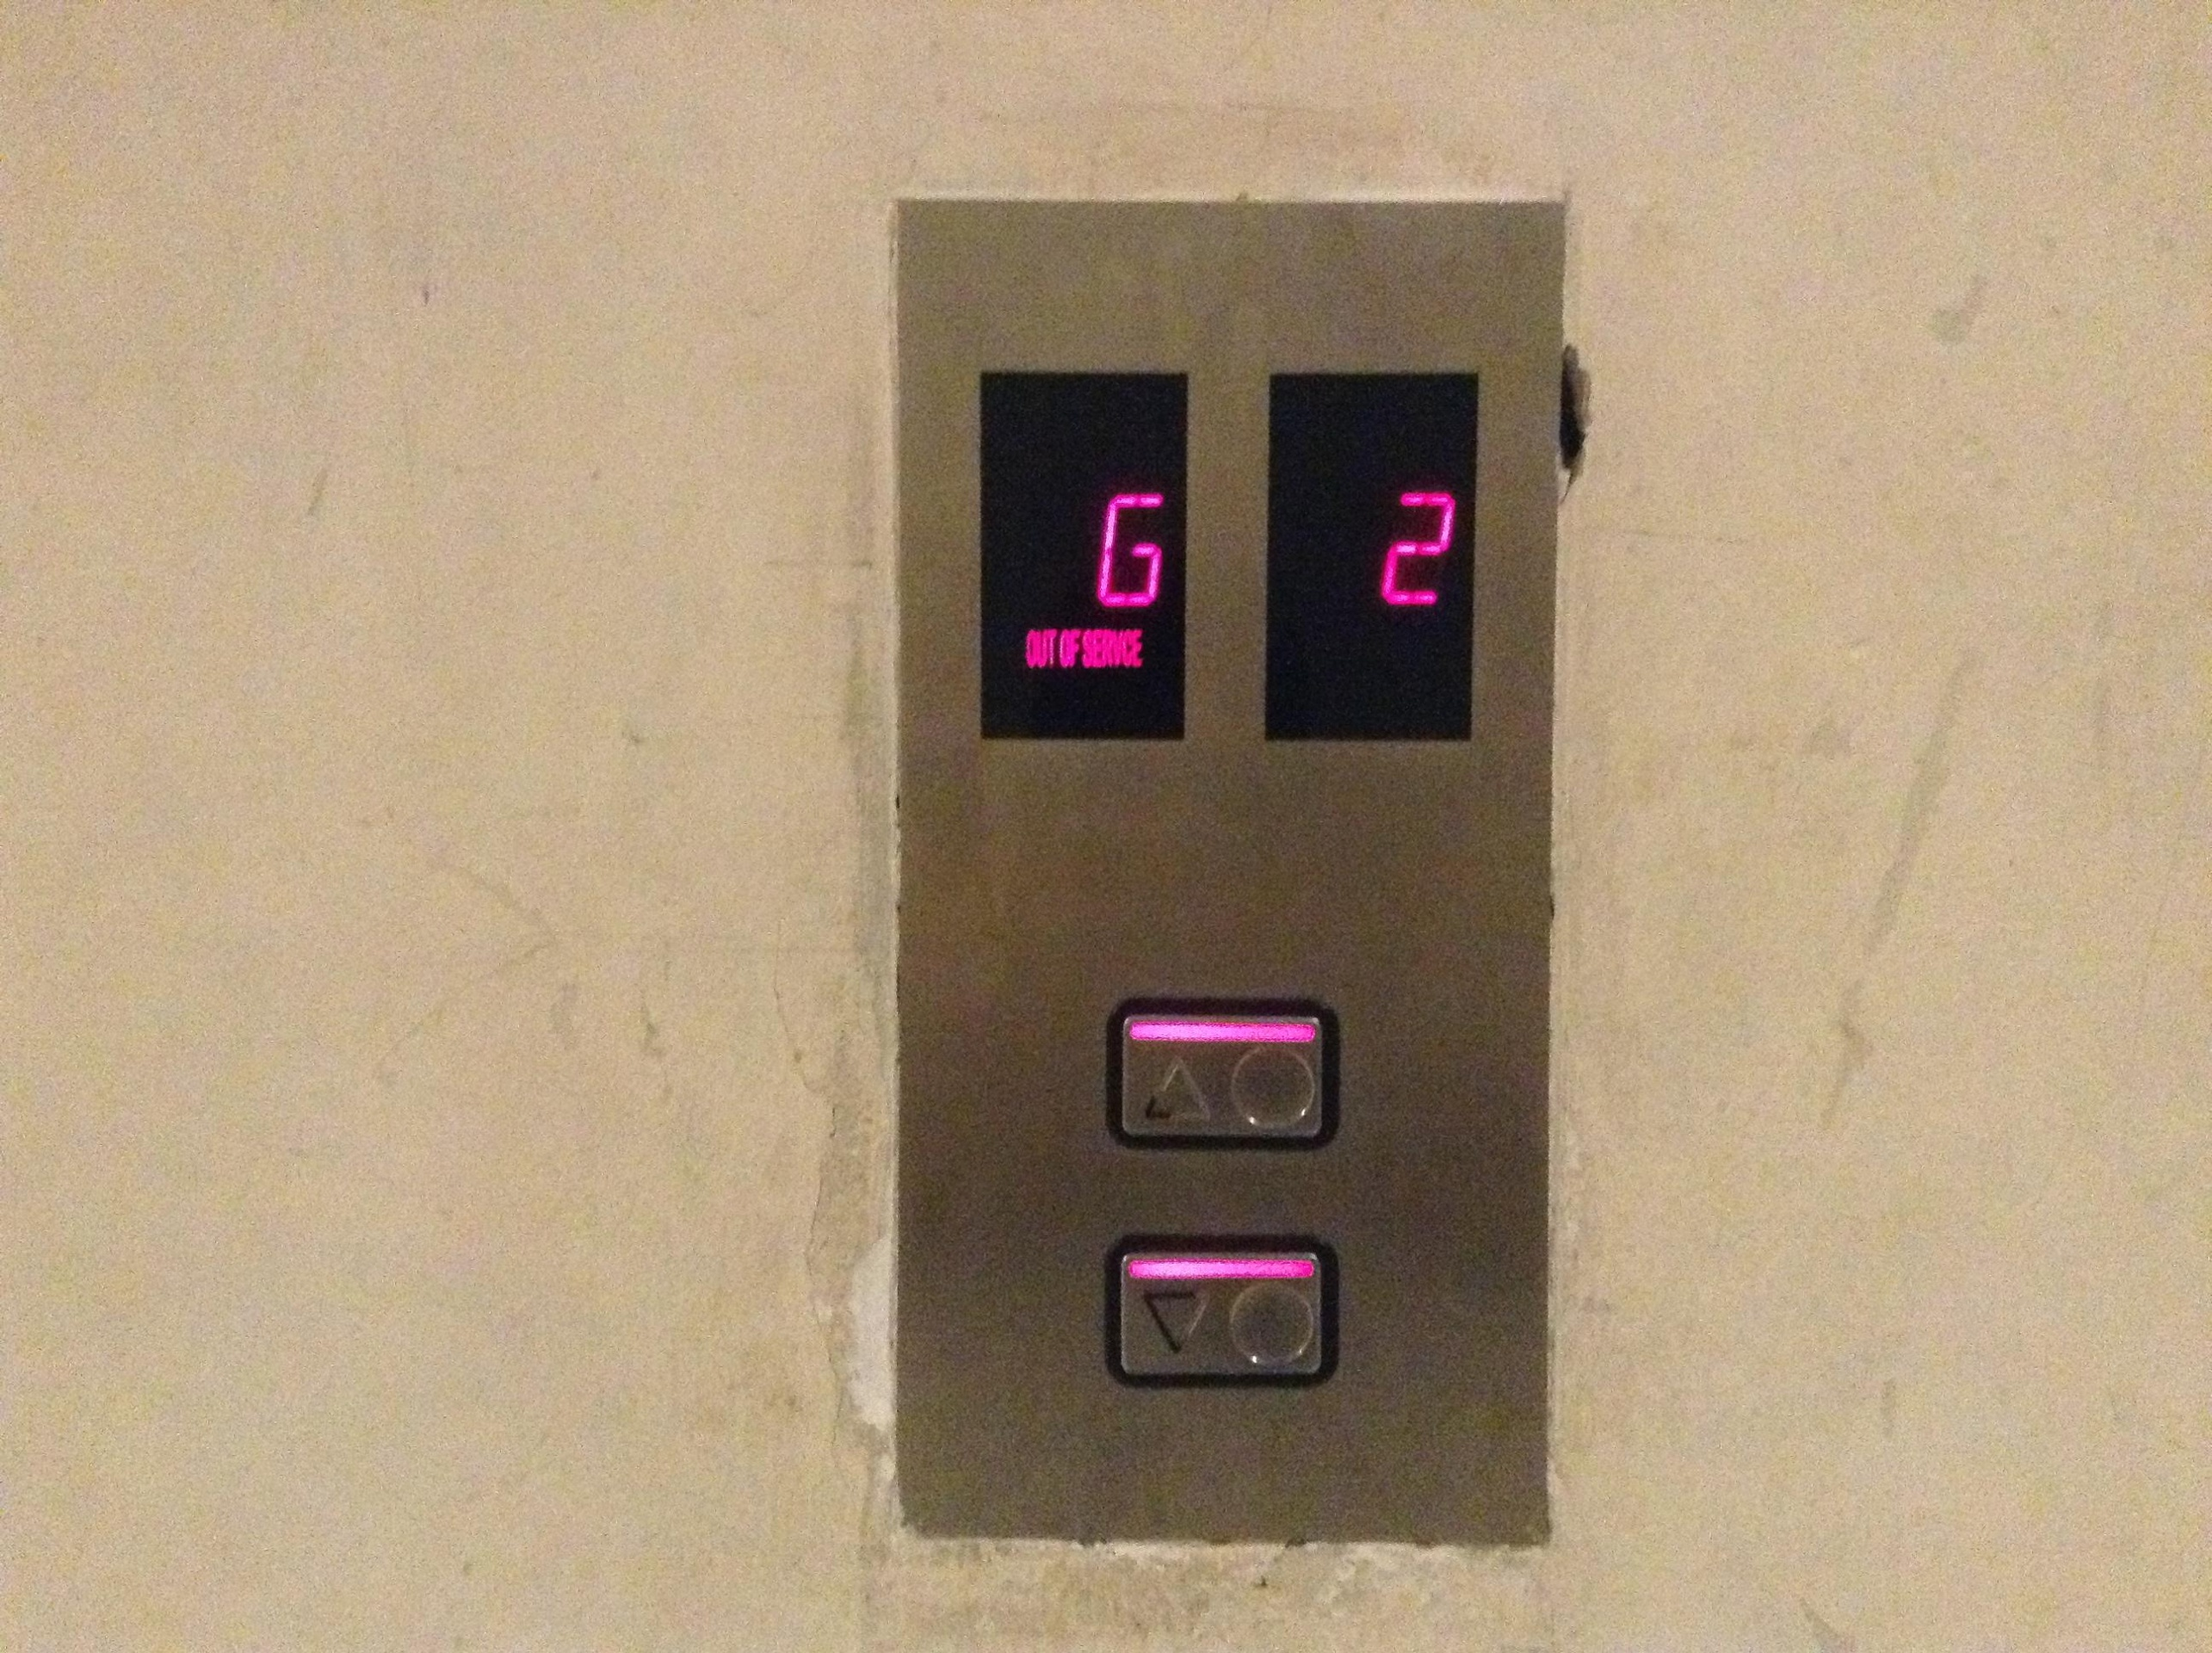down: (1103, 1235, 1337, 1394)
led: (976, 368, 1193, 745), (1261, 372, 1476, 748)
up: (1106, 1004, 1339, 1151)
